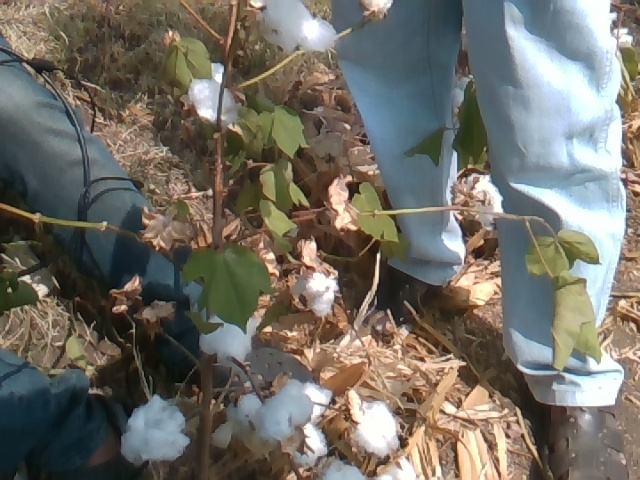cotton: (120, 396, 188, 462), (256, 1, 334, 53), (218, 394, 271, 456), (255, 389, 313, 439), (200, 313, 256, 364), (354, 403, 396, 454), (307, 273, 338, 318)
